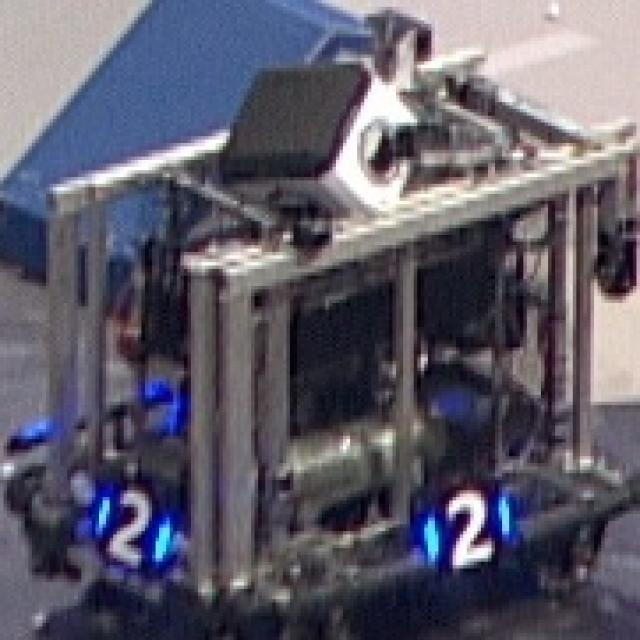B2: (420, 487, 512, 565), (88, 484, 170, 568)
